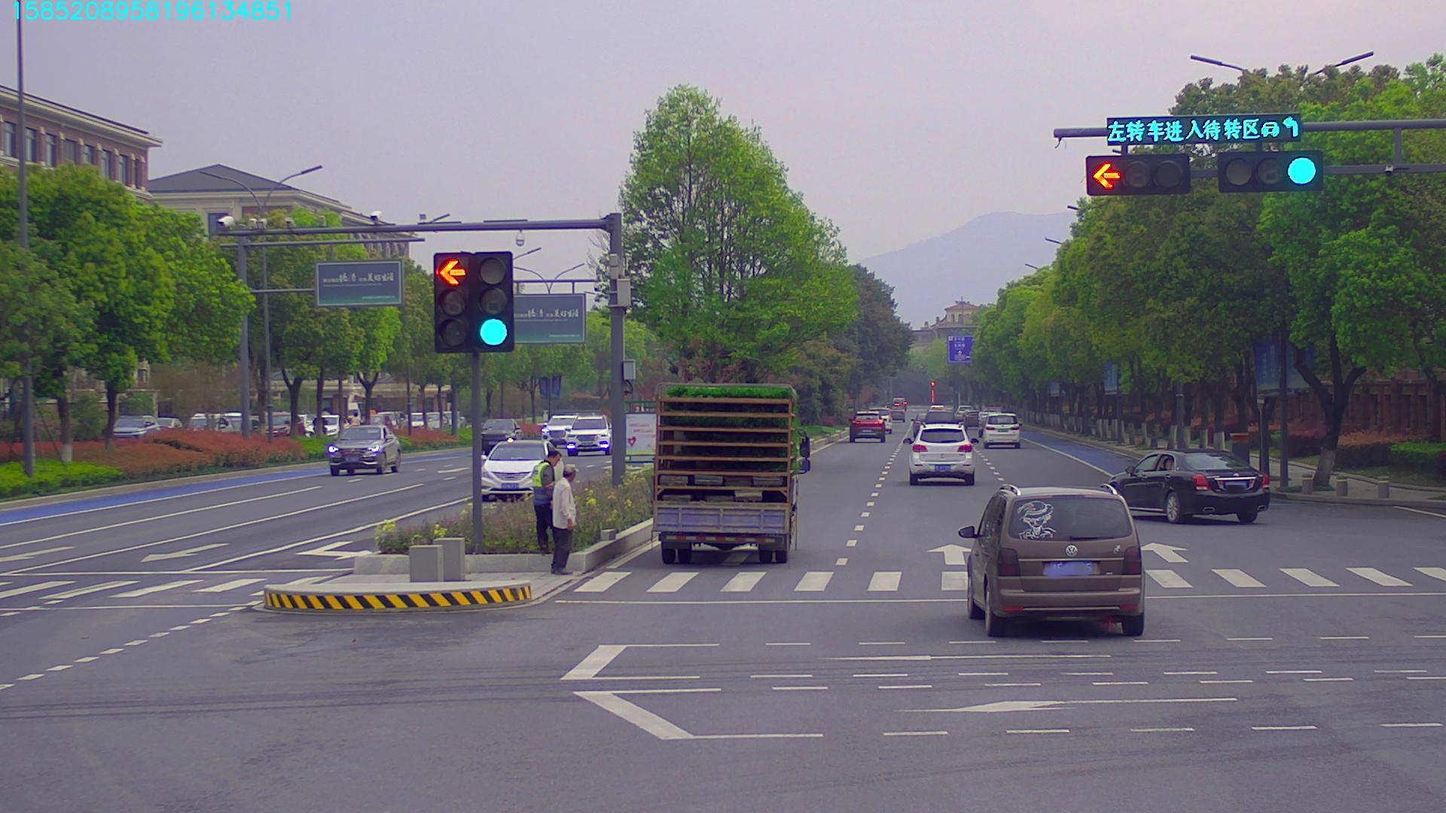green: (1225, 153, 1317, 189)
red: (1081, 155, 1183, 196)
wait_on: (1106, 113, 1304, 142)
